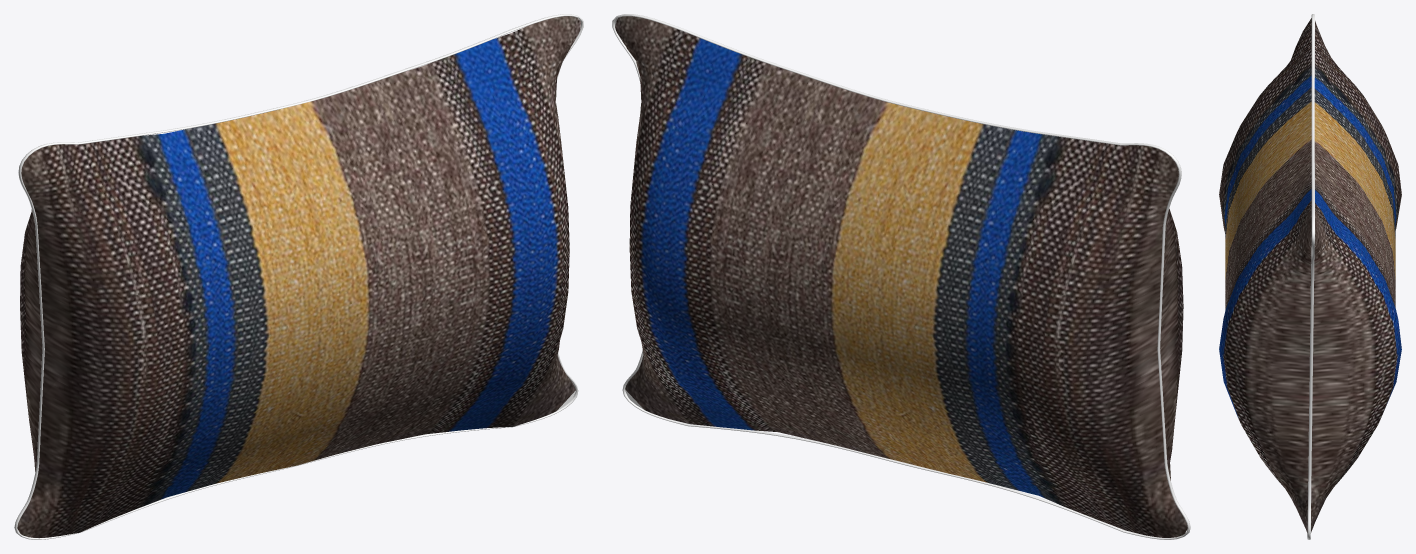
Rendered from Bright_TulumCushion-Lumbar.glb.
The picture shows the model from 3 angles, left to right: view 1: azimuth 30°, elevation 25°; view 2: azimuth 150°, elevation 25°; view 3: azimuth 270°, elevation 25°; orthographic projection. The views are drawn at different scales.
Visible parts, largest first — view 1: model 7; view 2: model 7; view 3: model 7.
Boxes of the visible parts, x1,y1,x2,y2 form: model 7: [14, 14, 583, 539]; model 7: [612, 14, 1190, 539]; model 7: [1219, 14, 1401, 539].
Bounding box in the file's own units: 0.6 × 0.4 × 0.2036.
2 materials, 1 textured.
